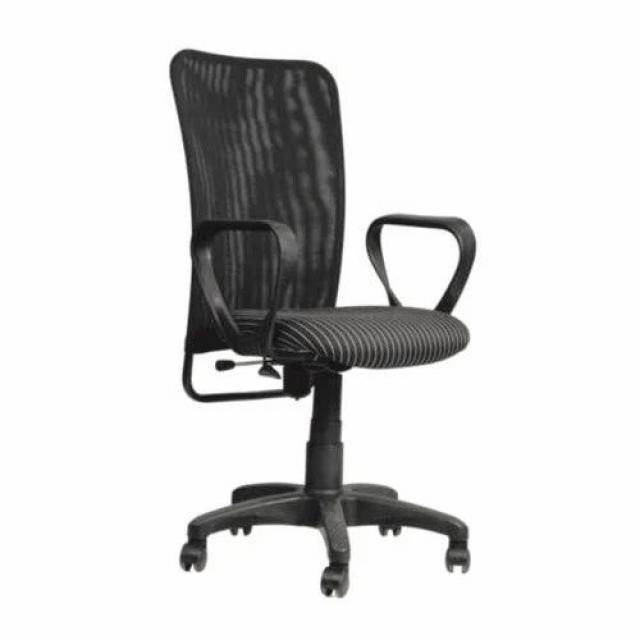chair: (142, 29, 547, 626)
